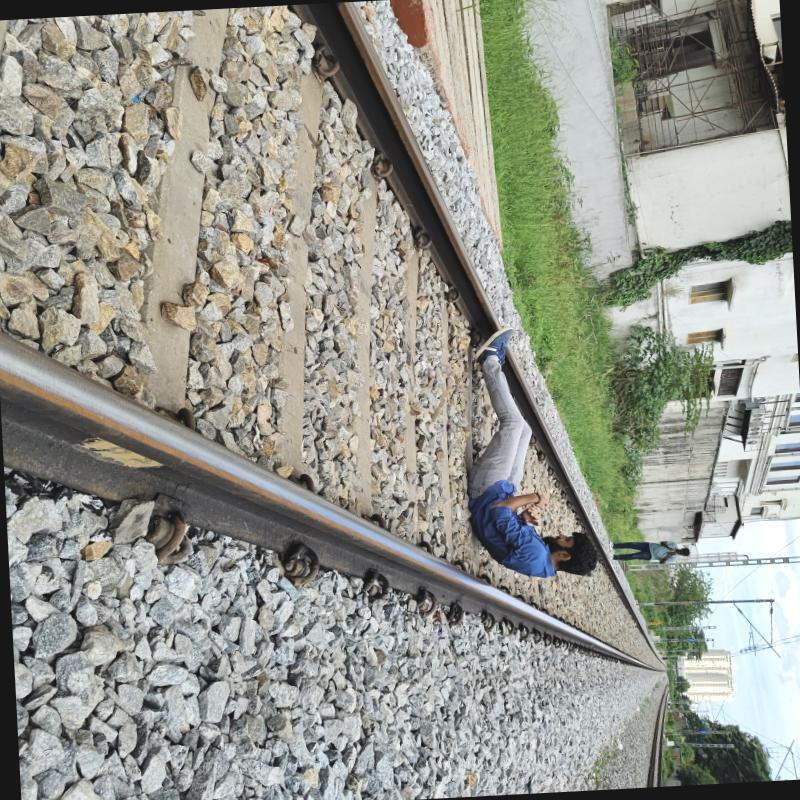sleeping: (452, 311, 610, 599)
